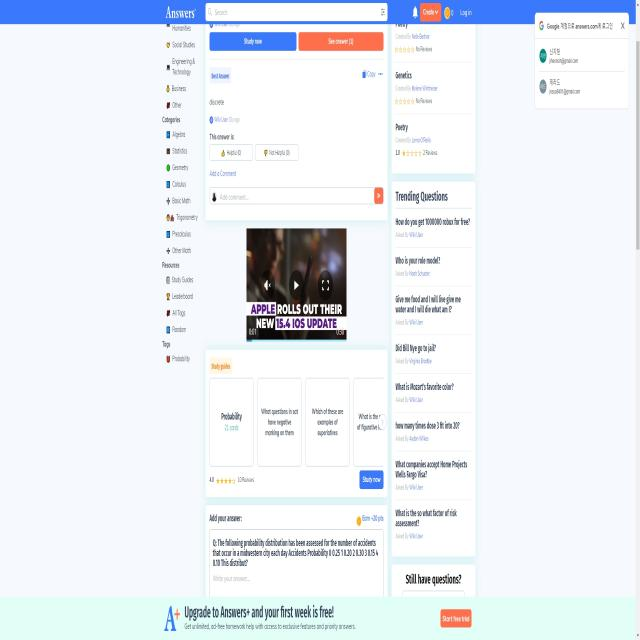menu-panel: (163, 34, 200, 368)
search: (204, 1, 392, 19)
side-panel: (392, 22, 474, 596)
